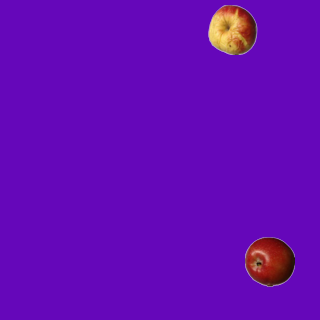Apple Braeburn: (244, 236, 294, 286)
Apple Red Yellow 1: (207, 4, 257, 54)
